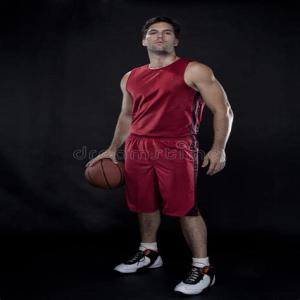Basket: (85, 158, 128, 190)
